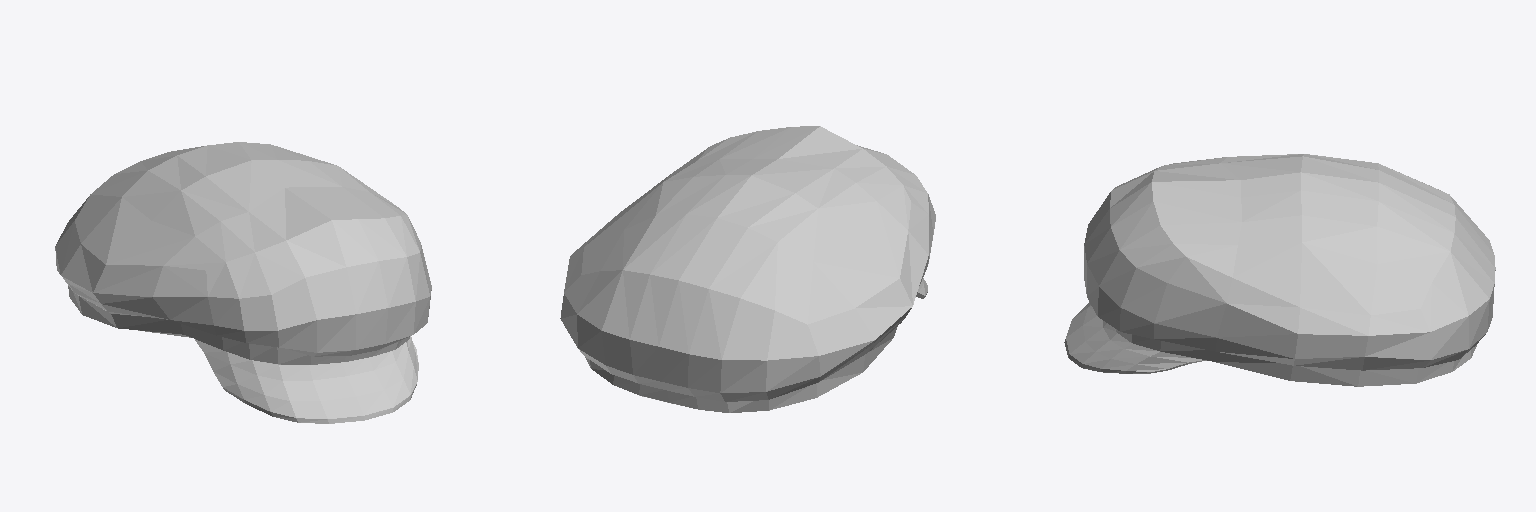
Rendered from hat00.obj.
The picture shows the model from 3 angles: view 1: azimuth 30°, elevation 25°; view 2: azimuth 150°, elevation 25°; view 3: azimuth 270°, elevation 25°; orthographic projection.
Parts seen in each view (by area): view 1: slav_hat_0; view 2: slav_hat_0; view 3: slav_hat_0.
Part boxes in pixels (left/top/right/bottom): slav_hat_0: left=55, top=142, right=431, bottom=423; slav_hat_0: left=560, top=126, right=935, bottom=412; slav_hat_0: left=1064, top=154, right=1495, bottom=386.
Bounding box in the file's own units: 8.34 × 4.48 × 10.11.